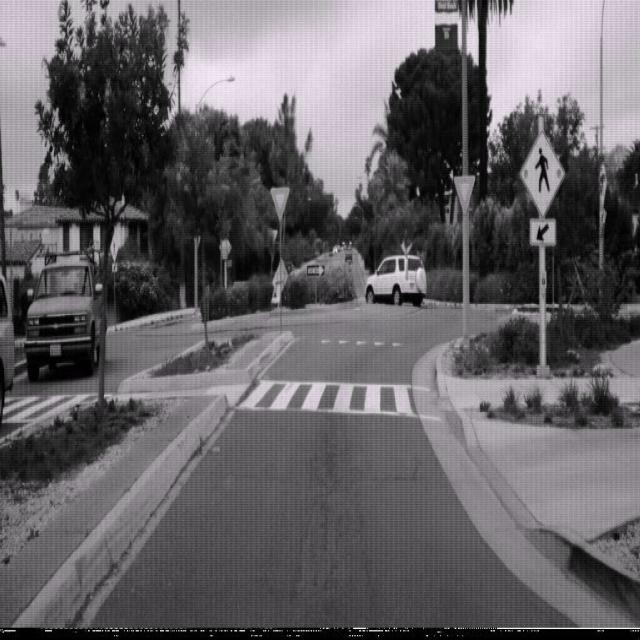pedestrianCrossing: (518, 128, 566, 220)
yield: (453, 174, 475, 213), (270, 185, 289, 221)
